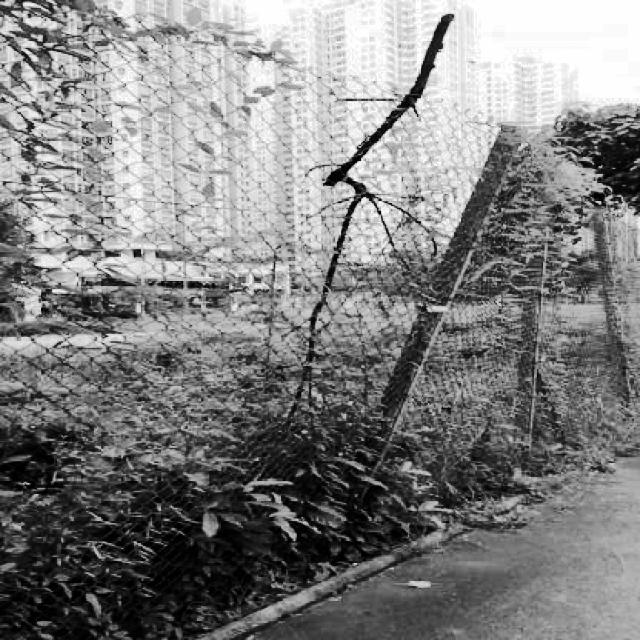anomaly-fence: (400, 116, 570, 492)
